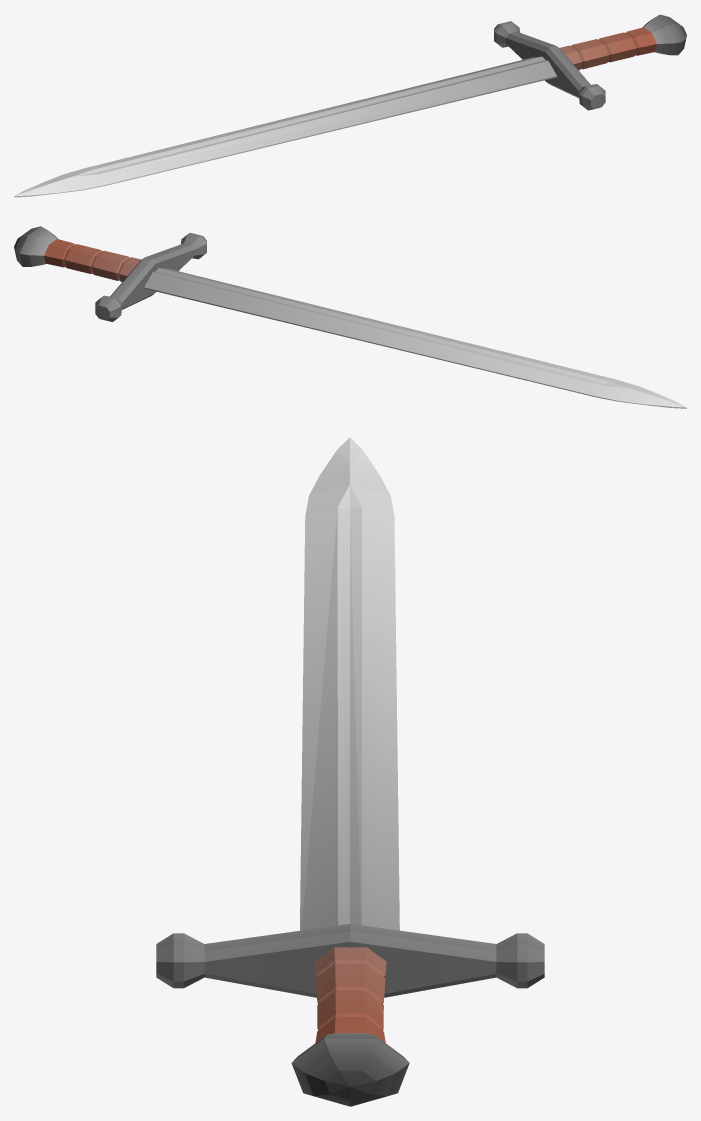
The model's file is sword_b.glb.
The picture shows the model from 3 angles, top to bottom: view 1: azimuth 30°, elevation 25°; view 2: azimuth 150°, elevation 25°; view 3: azimuth 270°, elevation 25°; orthographic projection. The views are drawn at different scales.
Visible parts, largest first — view 1: Sword_B_mesh1; view 2: Sword_B_mesh1; view 3: Sword_B_mesh1.
Boxes of the visible parts, bbox=[...] form: Sword_B_mesh1: bbox=[14, 14, 686, 197]; Sword_B_mesh1: bbox=[14, 226, 686, 408]; Sword_B_mesh1: bbox=[156, 437, 544, 1106].
Bounding box in the file's own units: 1.29 × 0.0668 × 0.3235.
1 material, 1 textured.
